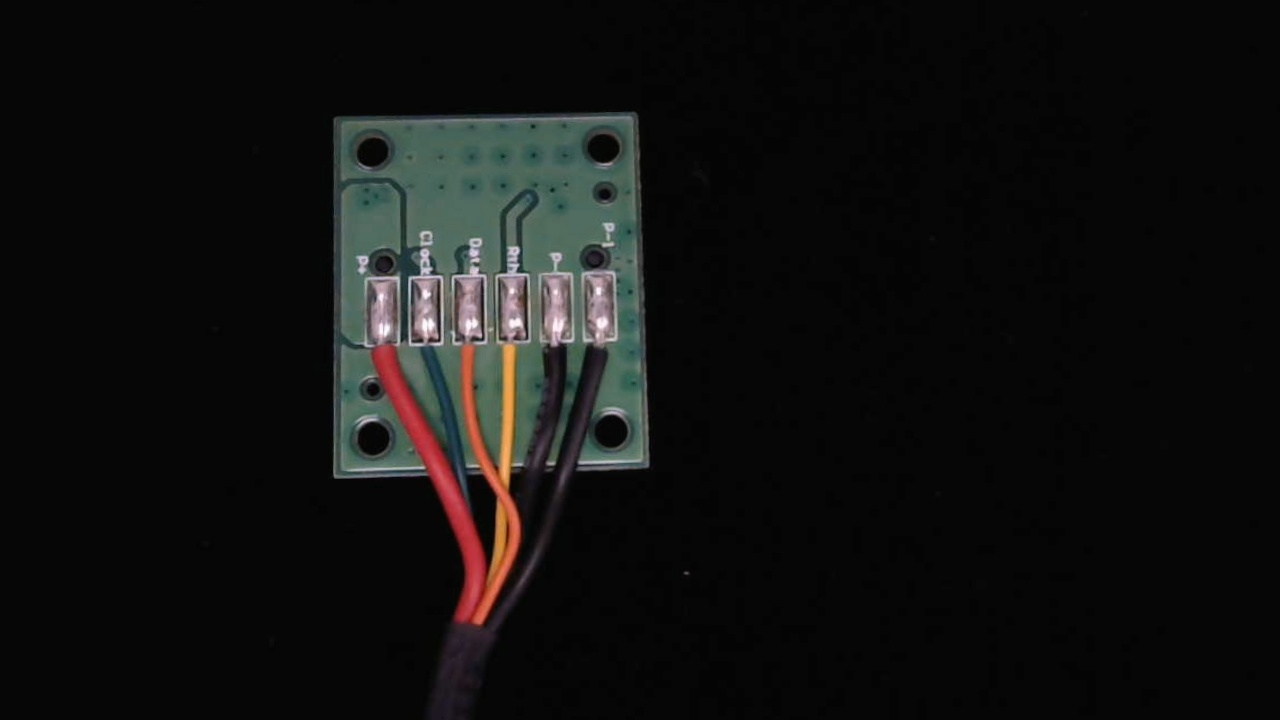Black: (539, 322, 572, 393)
Black1: (583, 321, 618, 387)
Green: (406, 322, 441, 394)
Orange: (450, 322, 482, 392)
Red: (363, 324, 404, 401)
Yellow: (494, 322, 531, 392)
